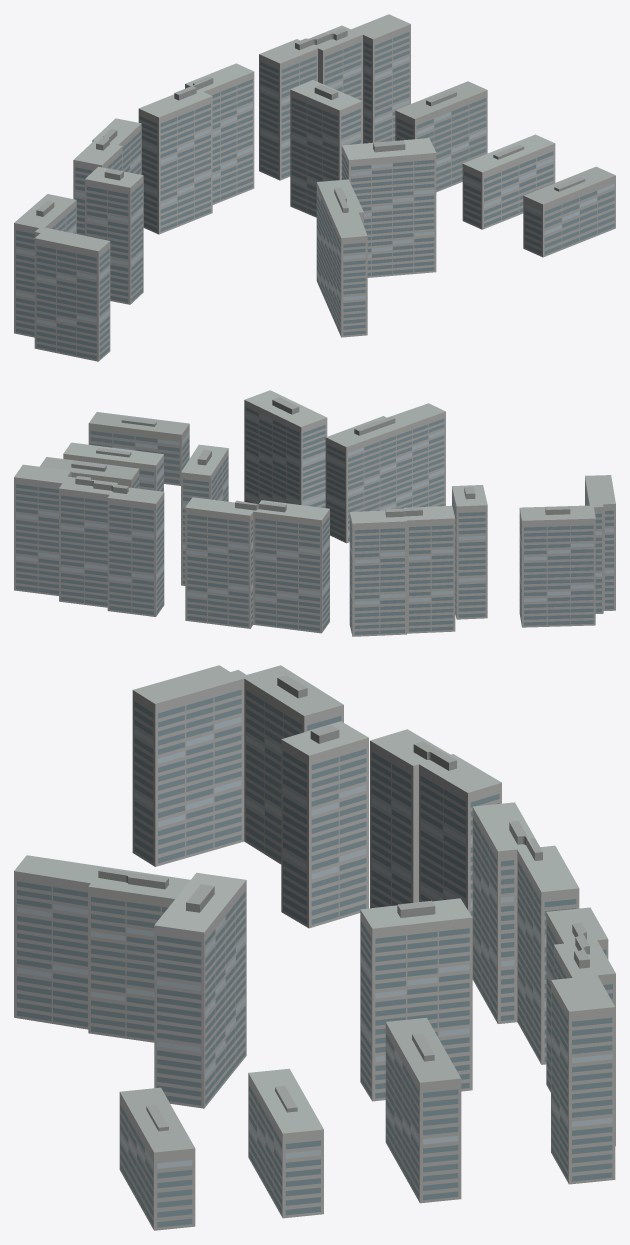
The model's file is apt-a12071101.glb.
3 views of the same model, one above another, from view 1: azimuth 30°, elevation 25°; view 2: azimuth 150°, elevation 25°; view 3: azimuth 270°, elevation 25° (orthographic). The views are drawn at different scales.
Visible parts, largest first — view 1: apt-a12071101; view 2: apt-a12071101; view 3: apt-a12071101.
Boxes of the visible parts, box(x1,y1,x2,y2) form: apt-a12071101: box(14, 14, 615, 361); apt-a12071101: box(14, 390, 615, 636); apt-a12071101: box(14, 665, 615, 1230).
Bounding box in the file's own units: 253 × 54 × 160.
